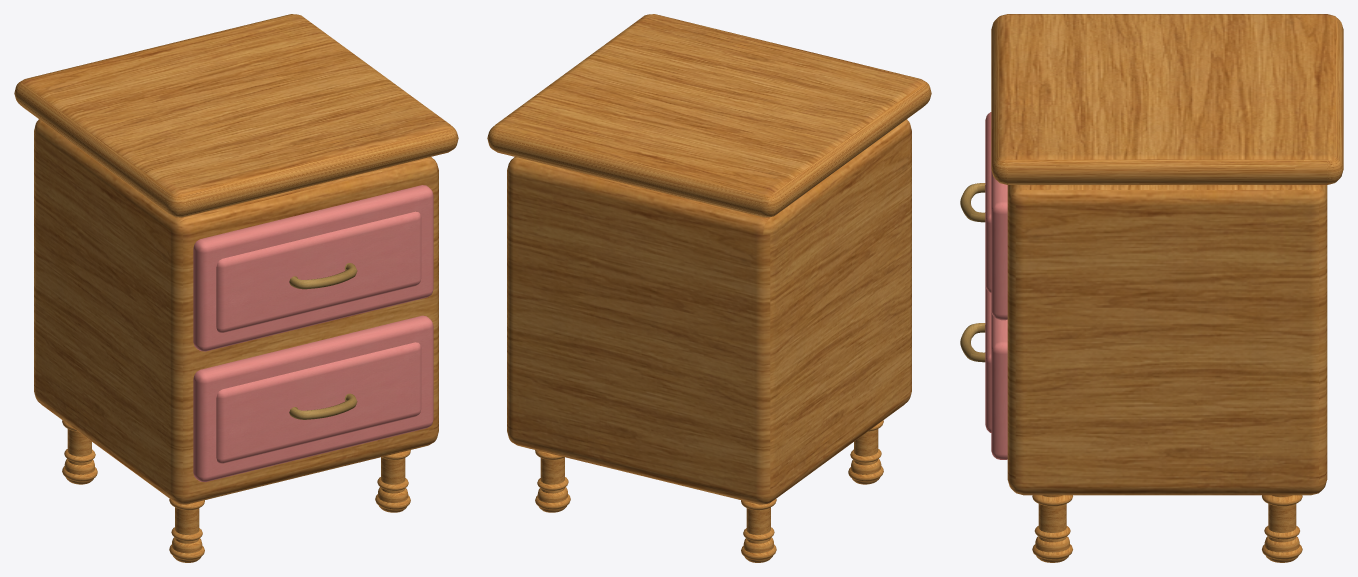
File: SM_InteriorAdditions_Nightstand.fbx
3 views of the same model, side by side, from view 1: azimuth 30°, elevation 25°; view 2: azimuth 150°, elevation 25°; view 3: azimuth 270°, elevation 25° (orthographic). The views are drawn at different scales.
Visible parts, largest first — view 1: SM_InteriorAdditions_Nightstand; view 2: SM_InteriorAdditions_Nightstand; view 3: SM_InteriorAdditions_Nightstand.
Part boxes in pixels (x1,y1,x2,y2): SM_InteriorAdditions_Nightstand: (14, 14, 458, 562); SM_InteriorAdditions_Nightstand: (487, 14, 931, 562); SM_InteriorAdditions_Nightstand: (960, 14, 1343, 562).
Size of what is drawn, in the model's own units: 55.12 by 58.79 by 71.
